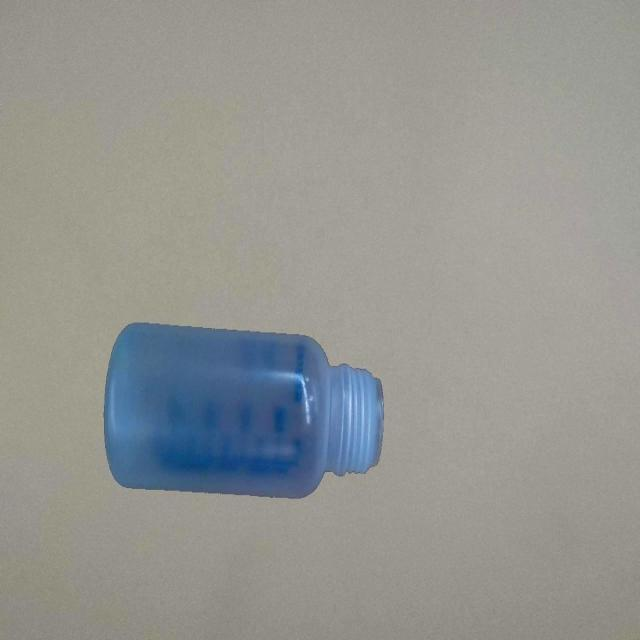bottle: (102, 318, 385, 506)
